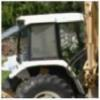tractors: (3, 12, 90, 100)
